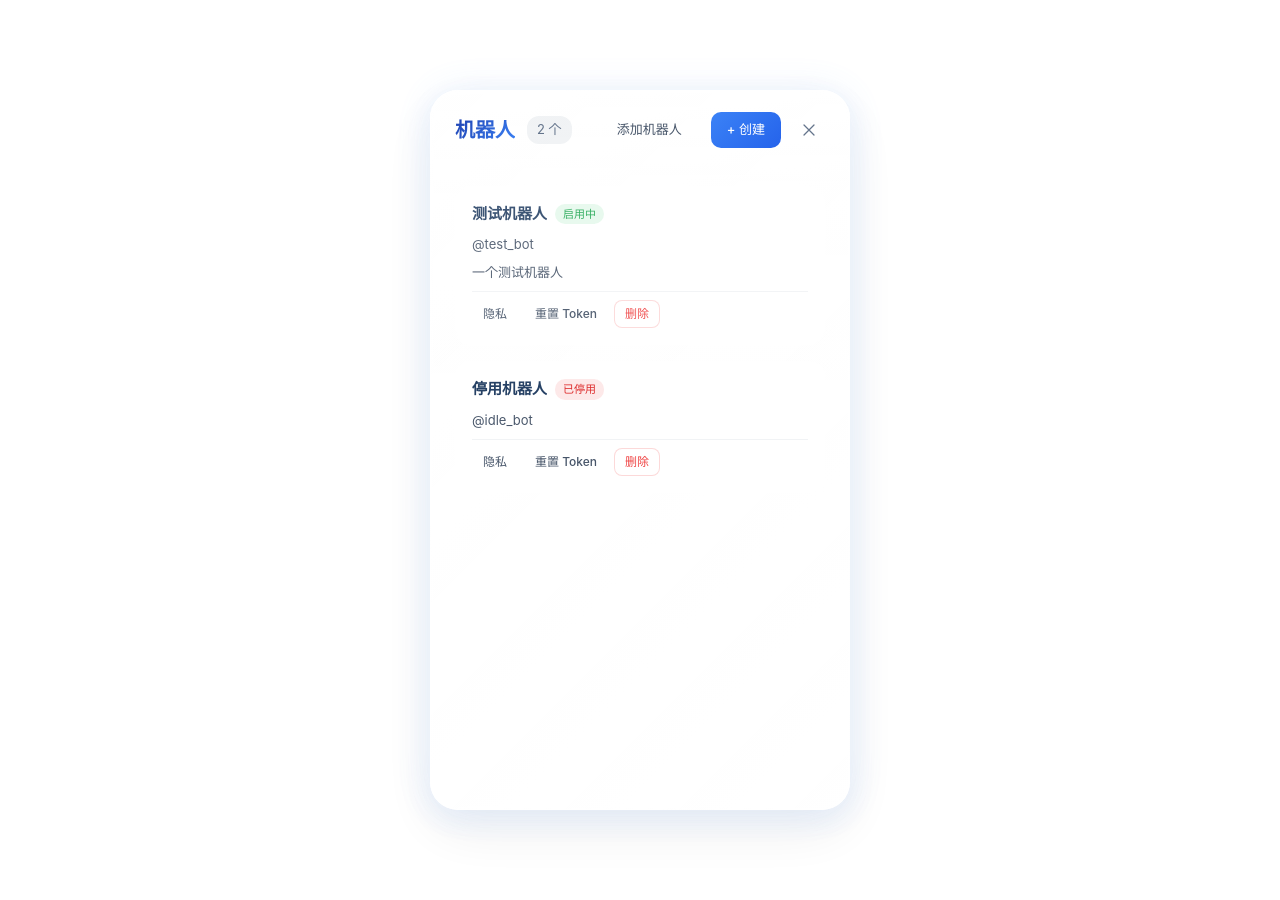
it: BotsModal › token 弹窗 portal 到 body 的 fixed 高层容器（回归：防被 z-index:1000 主弹窗遮挡）
The width and height of the screenshot is (1280, 900).
Expected: the heading "测试机器人" is shown, [472,202,547,225]
Click the button "+ 创建". click: [746, 130]
box: [711,112,781,148]
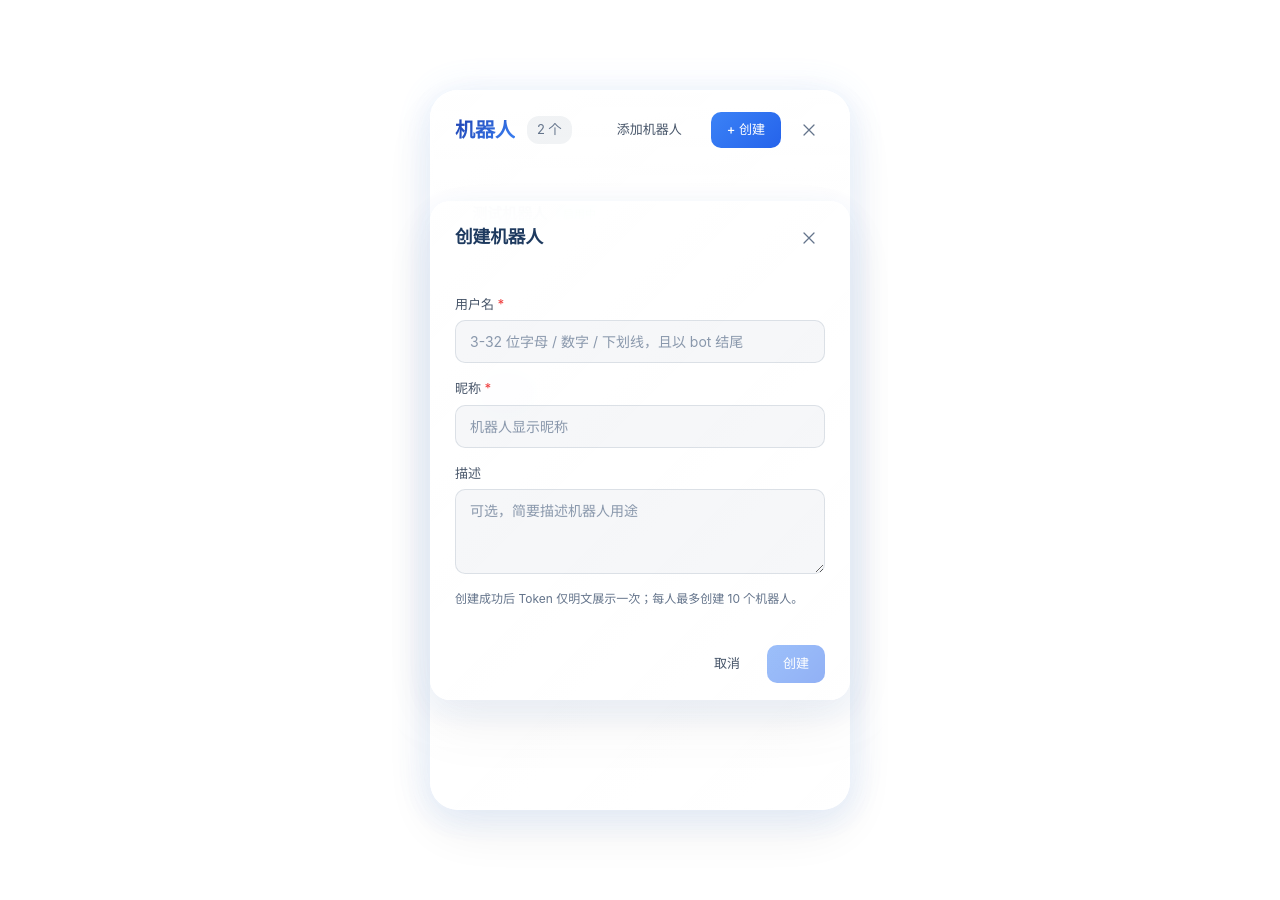
Type "portal_bot" into the field with placeholder "3-32 位字母 / 数字 / 下划线，且以 bot 结尾". click: [640, 342]
box: [455,320,825,363]
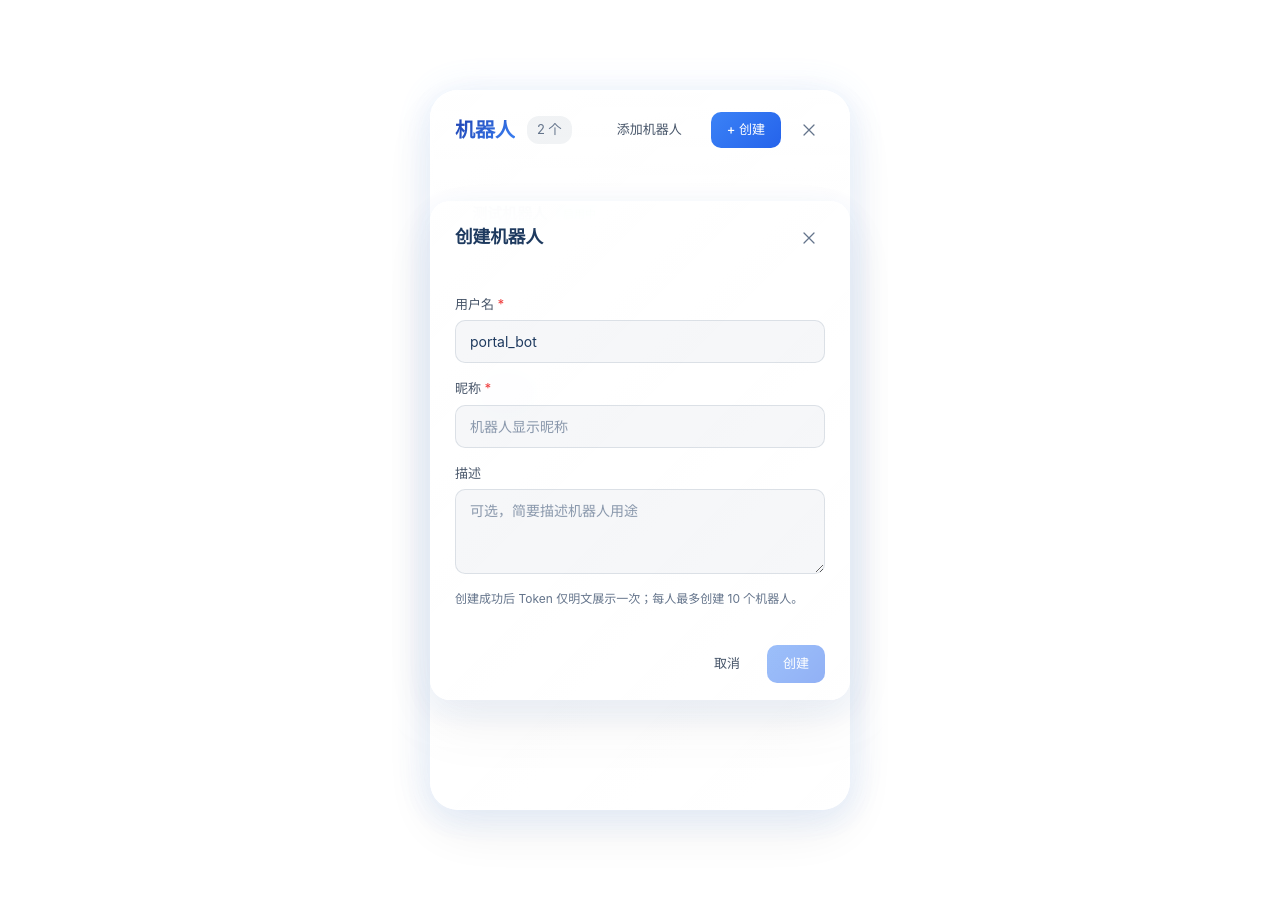
Type "Portal Bot" into the field with placeholder "机器人显示昵称". click: [640, 426]
box: [455,404,825,448]
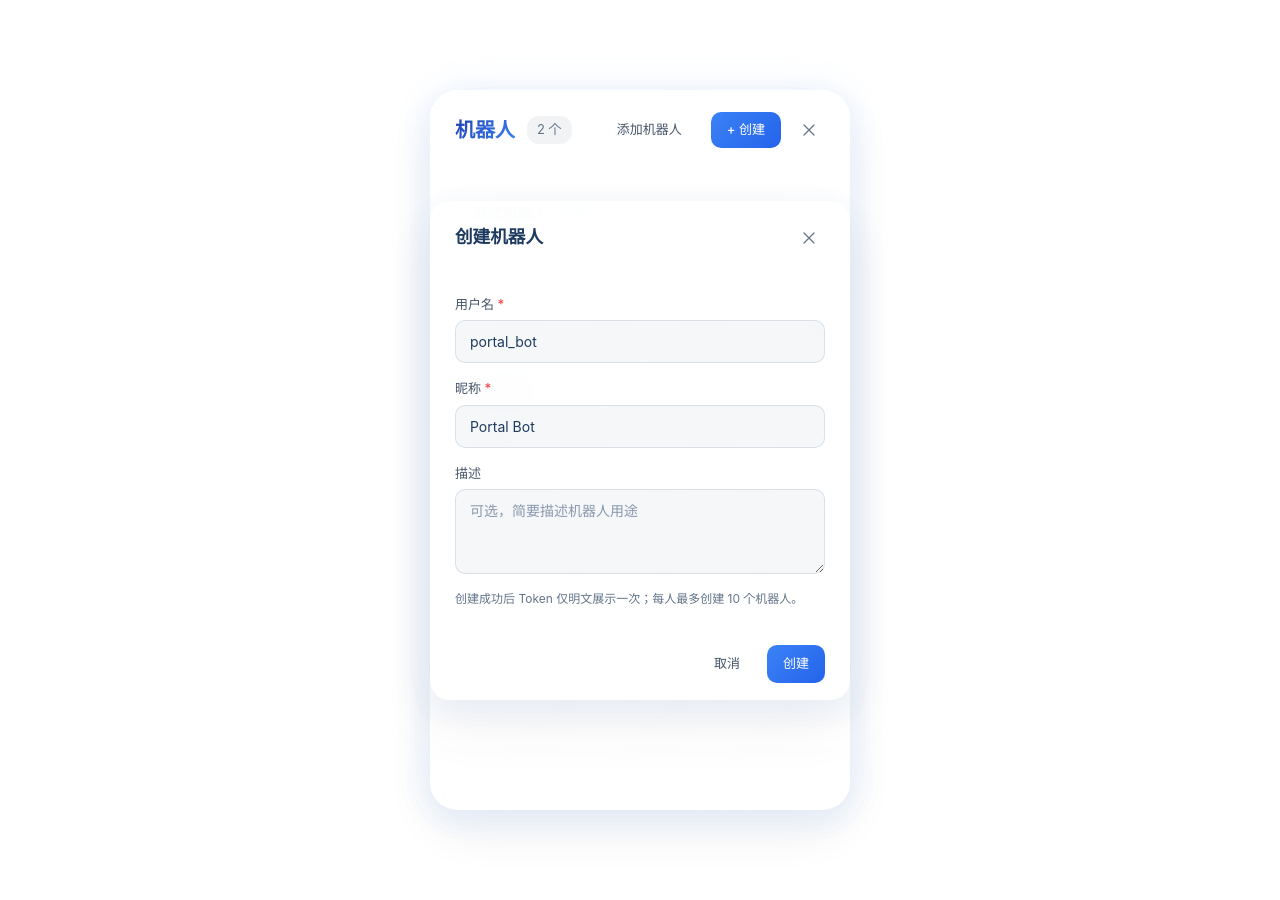
Click the button "创建". click: [796, 664]
box: [767,645,825,682]
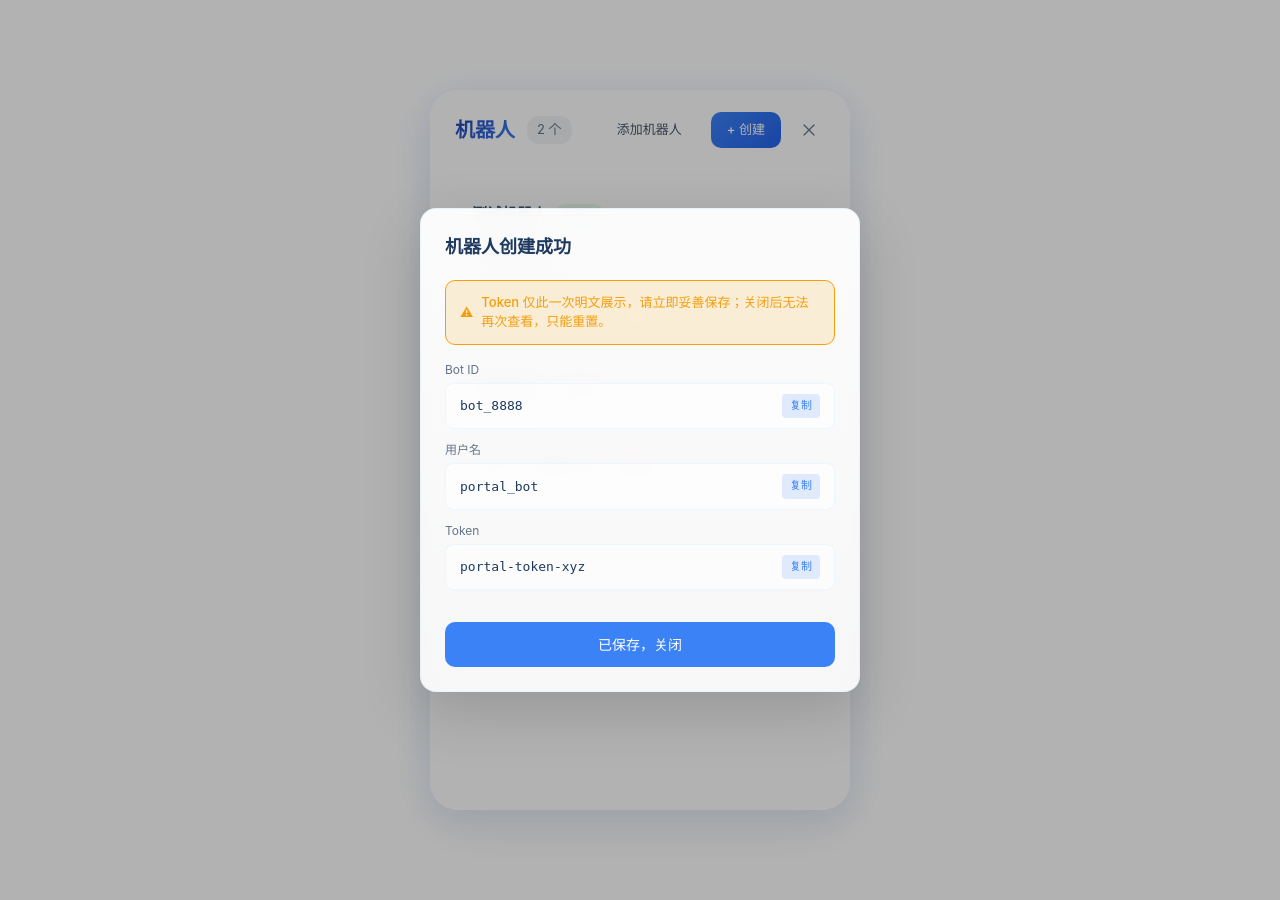
Expected: the text "portal-token-xyz" is shown, [460,559,585,574]
